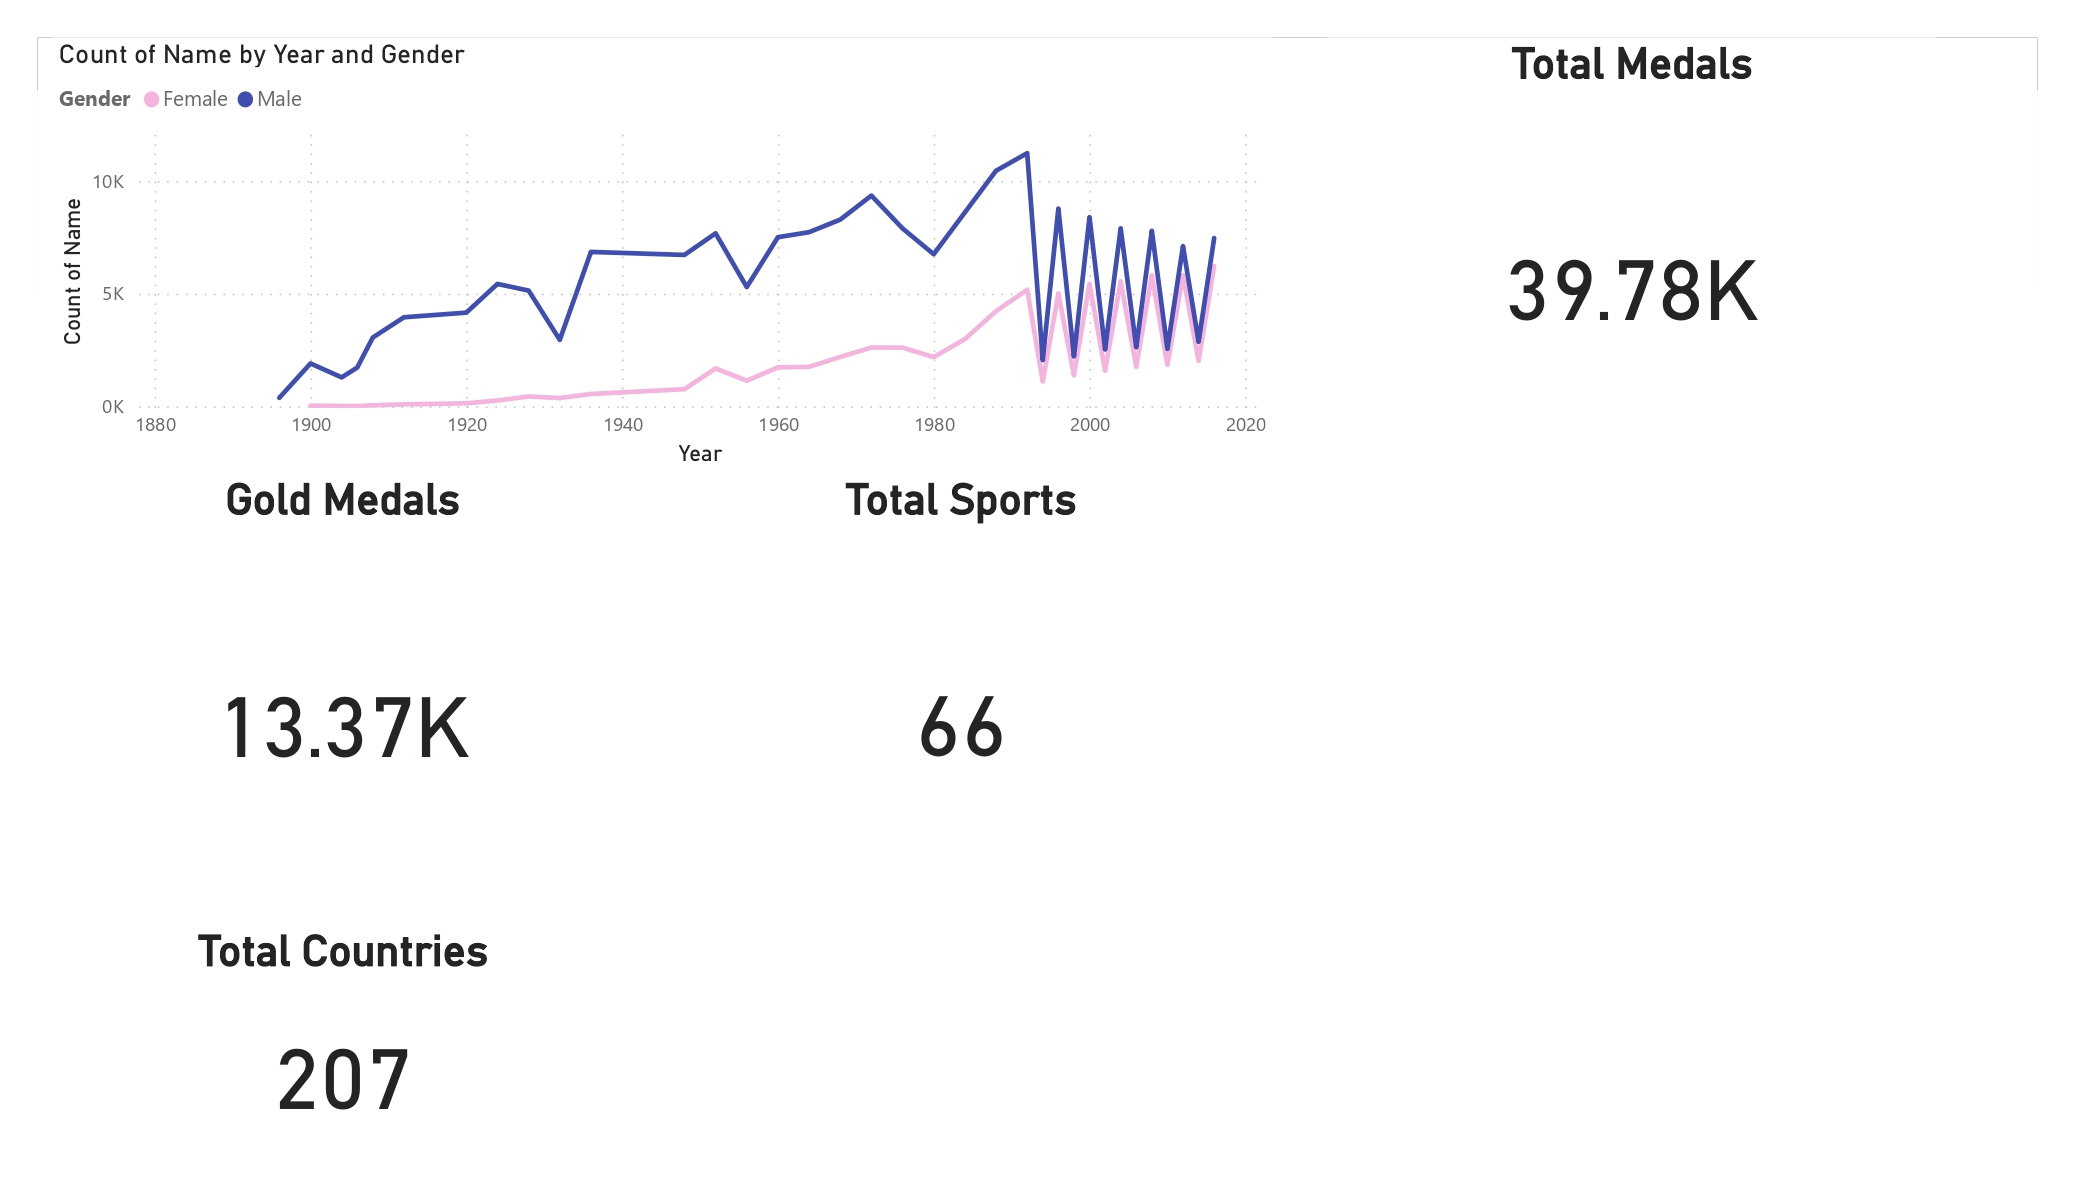

The dashboard page shown, as its layout file describes it:
{"tool":"powerbi","page":{"name":"Page 4","canvas":[1280,720],"ordinal":3},"visuals":[{"type":"lineChart","fields":{"Category":["Olympics Final.Year"],"Y":["CountNonNull(Olympics Final.Name)"],"Series":["Olympics Final.Gender"]},"box":[9.4,0,781.6,279.4],"z":0},{"type":"card","title":"Total Medals","fields":{"Values":["CountNonNull(Olympics Final.Medal)"]},"box":[825,0,390.8,279.4],"z":1000},{"type":"card","title":"Gold Medals","fields":{"Values":["CountNonNull(Olympics Final.Medal)"]},"box":[0,279.4,390.8,279.4],"z":2000},{"type":"card","title":"Total Countries","fields":{"Values":["Count(Olympics Final.Country)"]},"box":[0,568,391,152],"z":3000},{"type":"card","title":"Total Sports","fields":{"Values":["Count(Olympics Final.Sport)"]},"box":[391,279,400,279],"z":4000}]}

Visuals, with their boxes in screenshot pixels (x1, y1, x2, y2):
lineChart - Olympics Final.Year x CountNonNull(Olympics Final.Name): [52,38,1273,474]
"Total Medals" card: [1327,38,1937,474]
"Gold Medals" card: [38,474,648,911]
"Total Countries" card: [38,925,648,1162]
"Total Sports" card: [648,473,1273,909]
